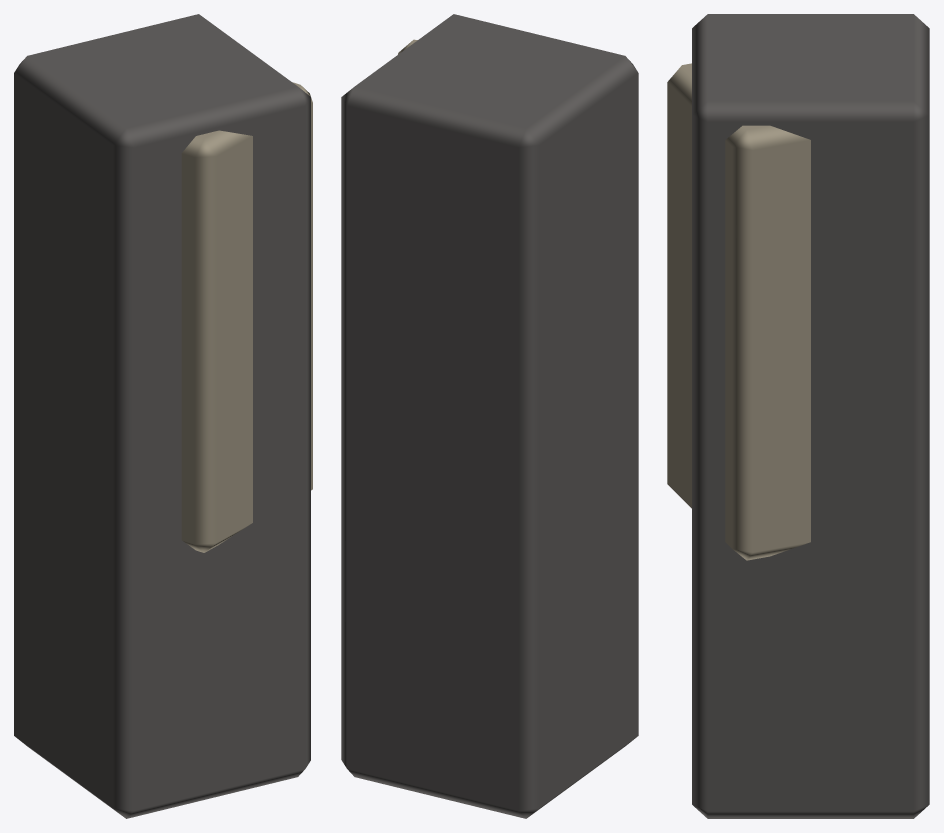
The model's file is stone-halls-cliff-corner.82244171.glb.
3 views of the same model, side by side, from view 1: azimuth 30°, elevation 25°; view 2: azimuth 150°, elevation 25°; view 3: azimuth 270°, elevation 25° (orthographic). The views are drawn at different scales.
Visible parts, largest first — view 1: body; view 2: body; view 3: body.
Boxes of the visible parts, x1,y1,x2,y2 form: body: [14, 14, 312, 818]; body: [341, 14, 638, 818]; body: [667, 14, 929, 818].
Bounding box in the file's own units: 0.662 × 2 × 0.662.
